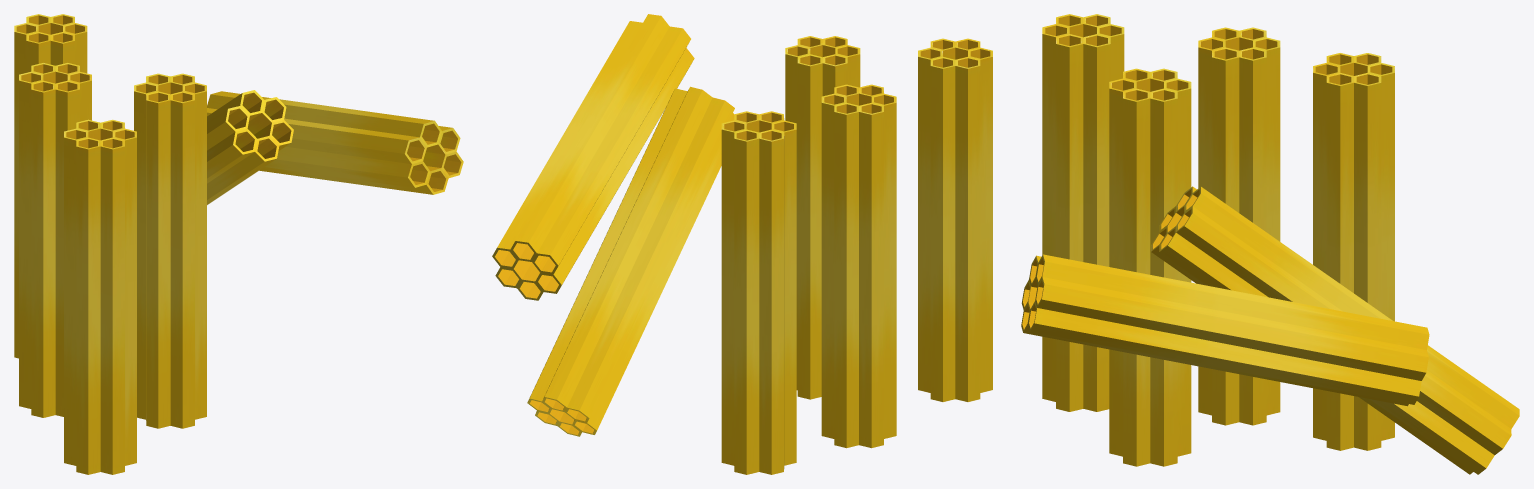
The model's file is Centrosoma.fbx.
3 renders of one model, left to right at view 1: azimuth 30°, elevation 25°; view 2: azimuth 150°, elevation 25°; view 3: azimuth 270°, elevation 25°, orthographic. The views are drawn at different scales.
Parts seen in each view (by area): view 1: pCylinder21; view 2: pCylinder21; view 3: pCylinder21.
Boxes of the visible parts, box(x1,y1,x2,y2) form: pCylinder21: box(14, 14, 463, 474); pCylinder21: box(492, 14, 992, 474); pCylinder21: box(1021, 14, 1519, 474).
Size of the model in its own units: 1.87 by 1.57 by 1.94.
Materials: 1 (1 with a texture image).
